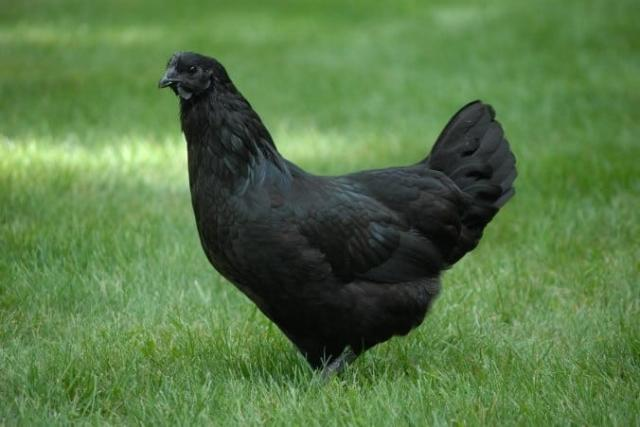Chicken: (158, 50, 519, 378)
